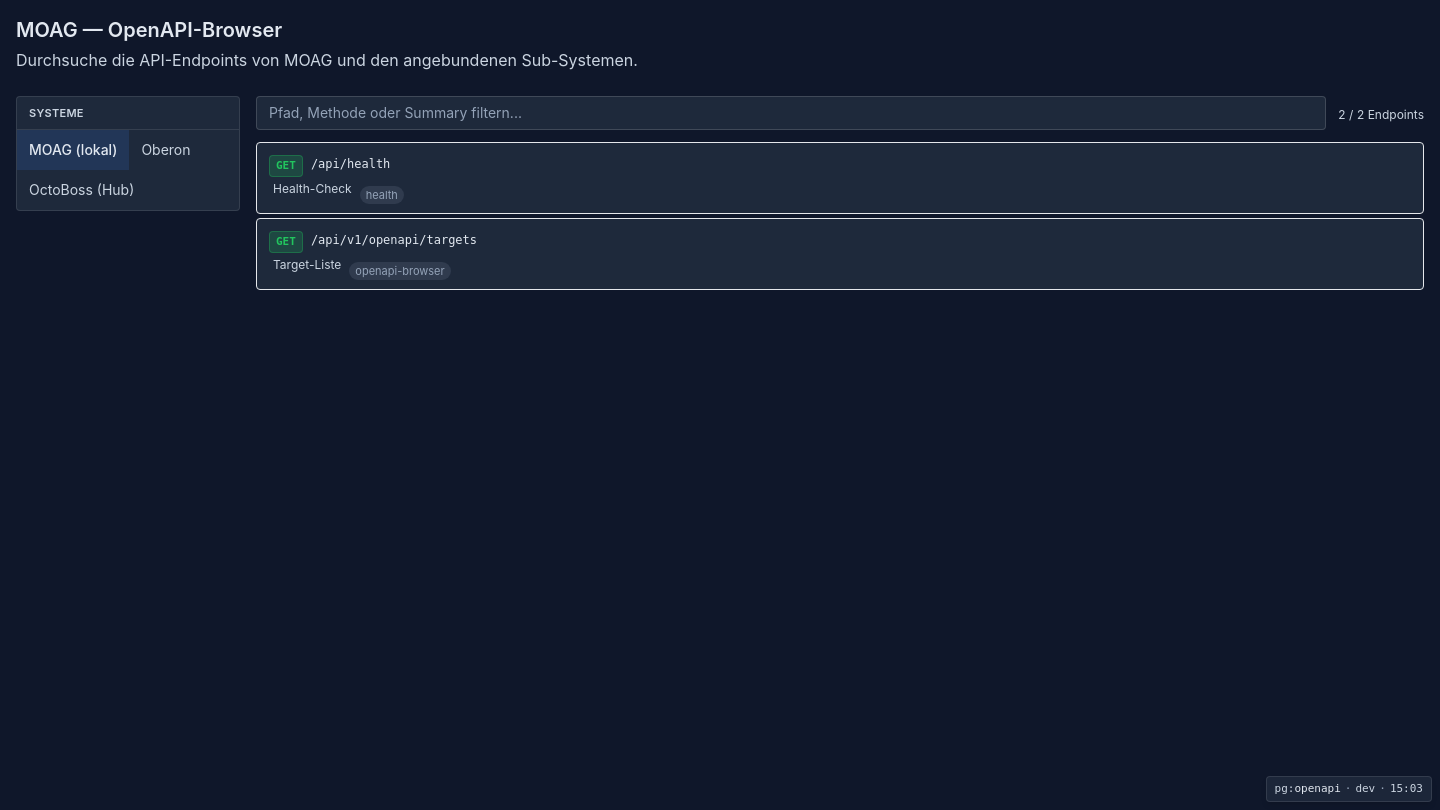
Test: OpenApiBrowser › Target-Wechsel laedt neue Endpoints
The image size is (1440, 810).
Click the button with test id "target-btn-oberon": point(166, 150) [129,130,203,170]
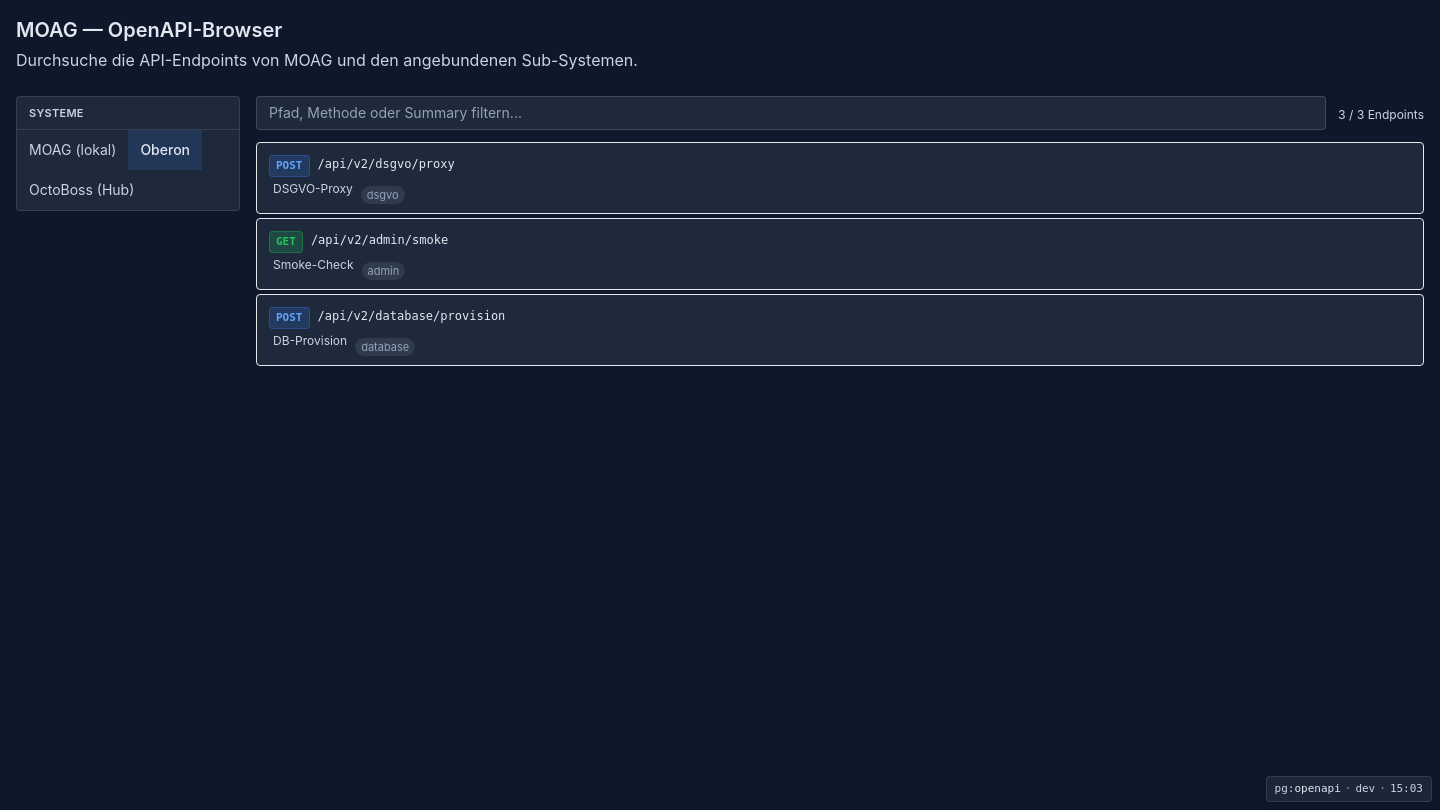
Check: the text "/api/v2/dsgvo/proxy" is shown, box [318,156,455,172]
